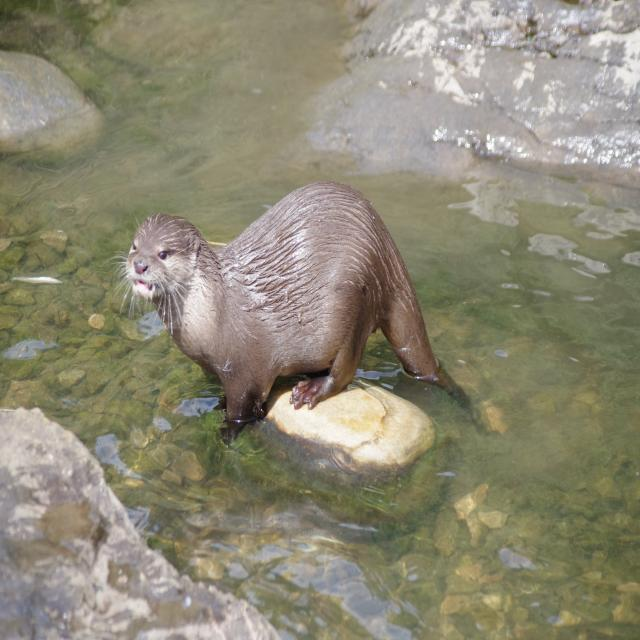otter: (127, 187, 433, 411)
